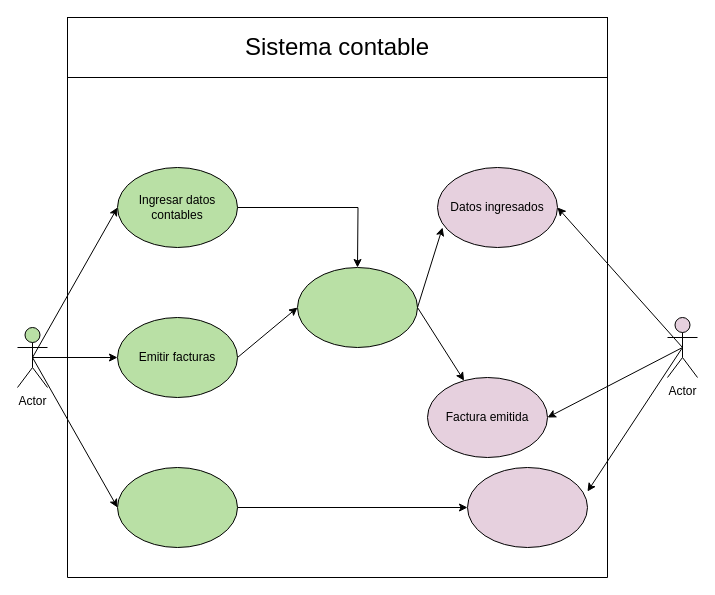
Some shapes in this 715 by 595 pixel diagram are drawn without their labels. The shapes that lost their labels are listed below. From the top down, each one's centre as x and y in pixels, then its label:
the point at 357,307: Seleccionar tipo de impuesto aplicado
the point at 177,507: Registrar facturas de pagos de los clientes
the point at 527,507: Factura registrada
